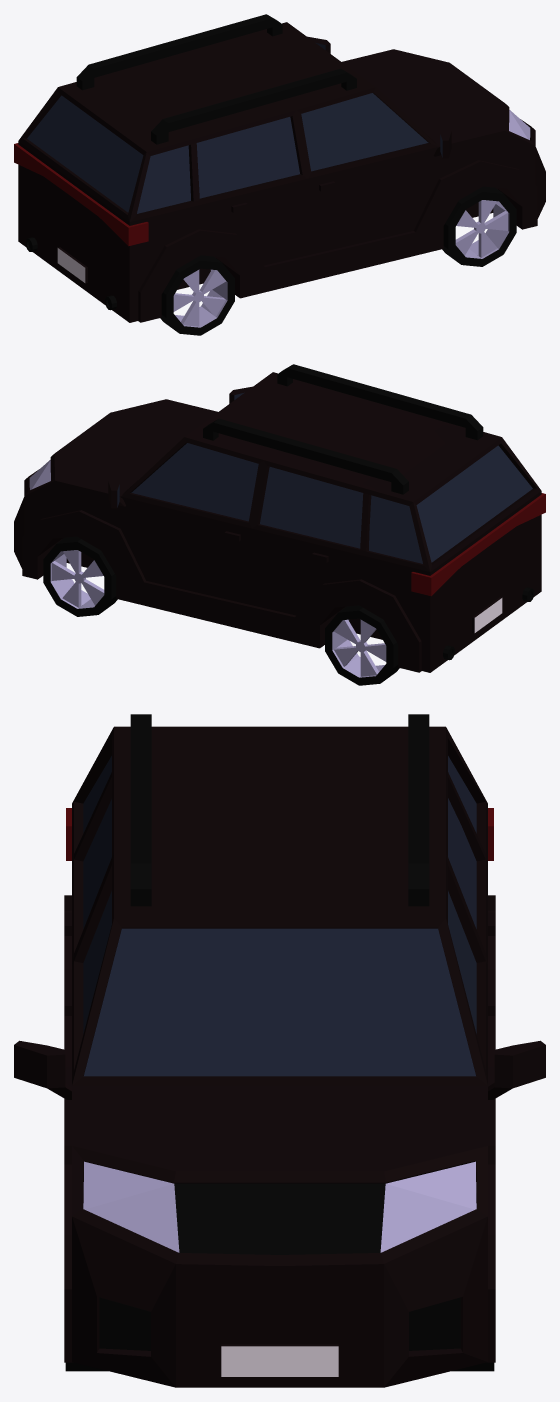
The model's file is test_car.obj.
3 renders of one model, top to bottom at view 1: azimuth 30°, elevation 25°; view 2: azimuth 150°, elevation 25°; view 3: azimuth 270°, elevation 25°, orthographic. The views are drawn at different scales.
Visible parts, largest first — view 1: SUV, SUV_wheel_front_right, SUV_wheel_rear_right; view 2: SUV, SUV_wheel_front_left, SUV_wheel_rear_left; view 3: SUV.
Boxes of the visible parts, x1=… form: SUV: x1=14, y1=14, x2=545, y2=322; SUV_wheel_front_right: x1=442, y1=186, x2=516, y2=266; SUV_wheel_rear_right: x1=160, y1=255, x2=234, y2=335; SUV: x1=14, y1=364, x2=545, y2=672; SUV_wheel_front_left: x1=43, y1=536, x2=117, y2=616; SUV_wheel_rear_left: x1=325, y1=605, x2=399, y2=685; SUV: x1=14, y1=714, x2=545, y2=1387.
Bounding box in the file's own units: 5.04 × 2.3 × 2.81.
